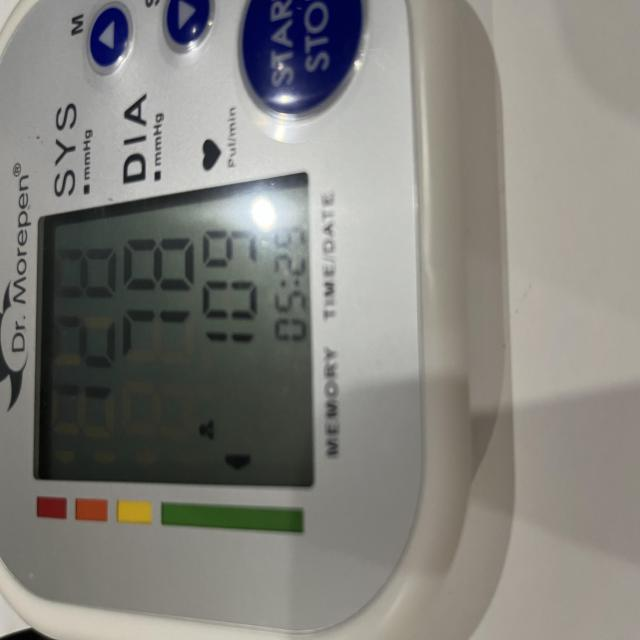bp: (0, 0, 517, 640)
